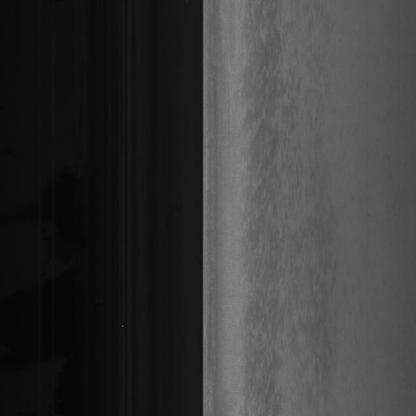silk_spot: (236, 69, 290, 303)
